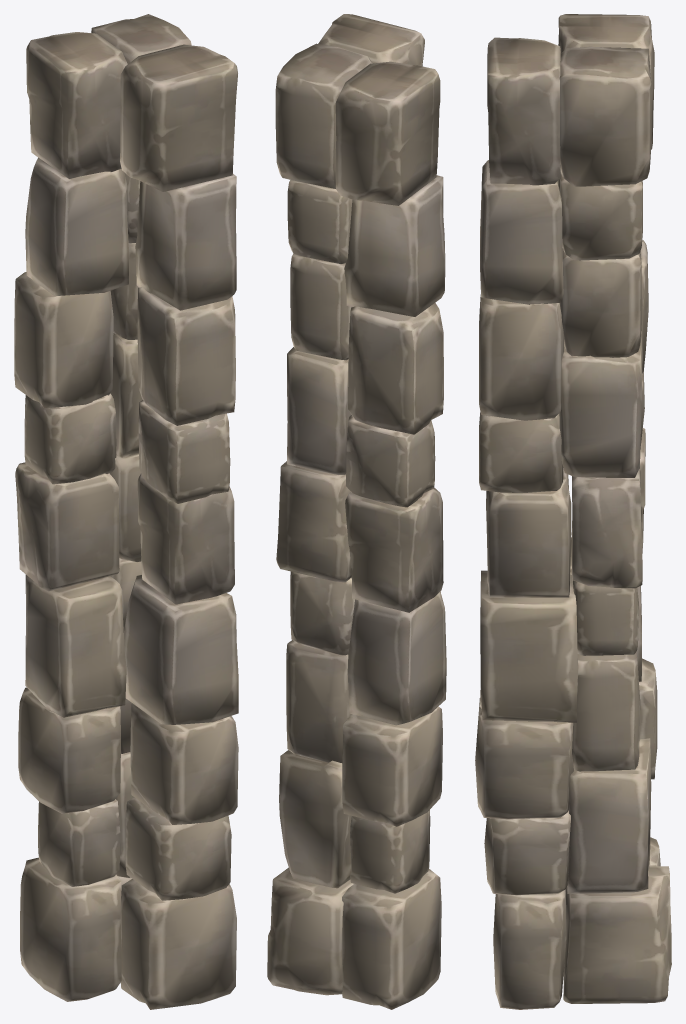
The model's file is Corner_Exterior_Brick.gltf.
3 views of the same model, side by side, from view 1: azimuth 30°, elevation 25°; view 2: azimuth 150°, elevation 25°; view 3: azimuth 270°, elevation 25° (orthographic). The views are drawn at different scales.
Parts seen in each view (by area): view 1: Corner_Exterior_Brick; view 2: Corner_Exterior_Brick; view 3: Corner_Exterior_Brick.
Part boxes in pixels (x1,y1,x2,y2): Corner_Exterior_Brick: (14, 14, 238, 1009); Corner_Exterior_Brick: (267, 14, 446, 1009); Corner_Exterior_Brick: (475, 14, 671, 1009).
Size of the model in its own units: 0.5305 by 3.02 by 0.5758.
1 material, 1 textured.
